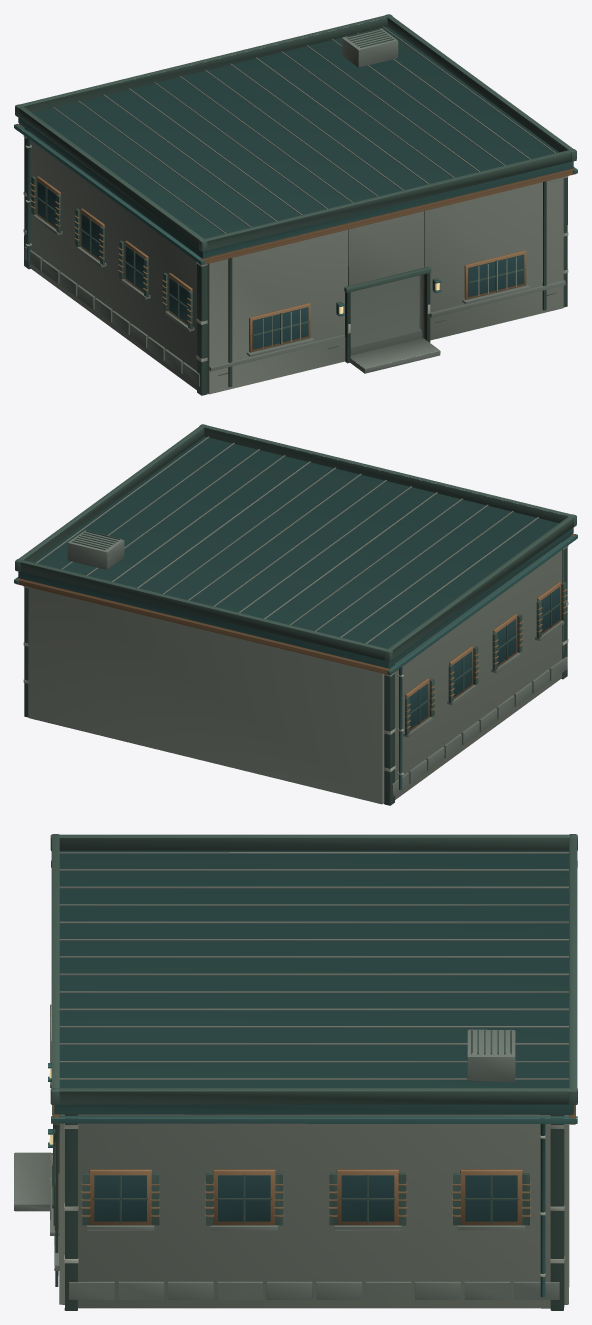
File: kf-prison-balanced.glb
The picture shows the model from 3 angles, top to bottom: view 1: azimuth 30°, elevation 25°; view 2: azimuth 150°, elevation 25°; view 3: azimuth 270°, elevation 25°; orthographic projection. The views are drawn at different scales.
Visible parts, largest first — view 1: Roof Roof metal, Shell Painted plaster, RoofDetail Timber trim, Shell Foundation, Shell Timber trim, Shell Warm wood, Shell Window glass, RoofDetail Brushed hardware, Shell Roof metal, RoofDetail Foundation, Shell Brushed hardware; view 2: Shell Painted plaster, Roof Roof metal, RoofDetail Timber trim, RoofDetail Brushed hardware, Shell Timber trim, Shell Warm wood, Shell Foundation, Shell Window glass, Shell Roof metal, RoofDetail Foundation; view 3: Roof Roof metal, Shell Painted plaster, RoofDetail Timber trim, RoofDetail Brushed hardware, Shell Foundation, Shell Timber trim, Shell Window glass, Shell Warm wood, Shell Roof metal, RoofDetail Foundation, Shell Brushed hardware.
Boxes of the visible parts, x1,y1,x2,y2 form: Roof Roof metal: (18, 26, 573, 258); Shell Painted plaster: (29, 132, 563, 394); RoofDetail Timber trim: (15, 14, 576, 251); Shell Foundation: (24, 214, 565, 386); Shell Timber trim: (24, 128, 567, 395); Shell Warm wood: (16, 124, 575, 352); Shell Window glass: (37, 181, 524, 349); RoofDetail Brushed hardware: (53, 26, 555, 233); Shell Roof metal: (14, 124, 577, 316); RoofDetail Foundation: (341, 28, 398, 67); Shell Brushed hardware: (23, 135, 568, 362); Shell Painted plaster: (28, 542, 563, 804); Roof Roof metal: (18, 436, 573, 668); RoofDetail Timber trim: (15, 424, 576, 661); RoofDetail Brushed hardware: (36, 436, 538, 643); Shell Timber trim: (24, 538, 567, 805); Shell Warm wood: (16, 534, 575, 731); Shell Foundation: (384, 620, 567, 803); Shell Window glass: (409, 587, 560, 729); Shell Roof metal: (14, 534, 577, 790); RoofDetail Foundation: (67, 530, 124, 569); Roof Roof metal: (54, 850, 574, 1114); Shell Painted plaster: (59, 1114, 569, 1308); RoofDetail Timber trim: (50, 834, 577, 1104); RoofDetail Brushed hardware: (59, 852, 568, 1079); Shell Foundation: (14, 1041, 559, 1299); Shell Timber trim: (52, 1114, 564, 1310); Shell Window glass: (53, 1146, 517, 1225); Shell Warm wood: (52, 1105, 575, 1230); Shell Roof metal: (48, 860, 577, 1297); RoofDetail Foundation: (467, 1029, 515, 1081); Shell Brushed hardware: (50, 1004, 564, 1276).
Size of the model in its own units: 14.88 by 6.41 by 13.69.
